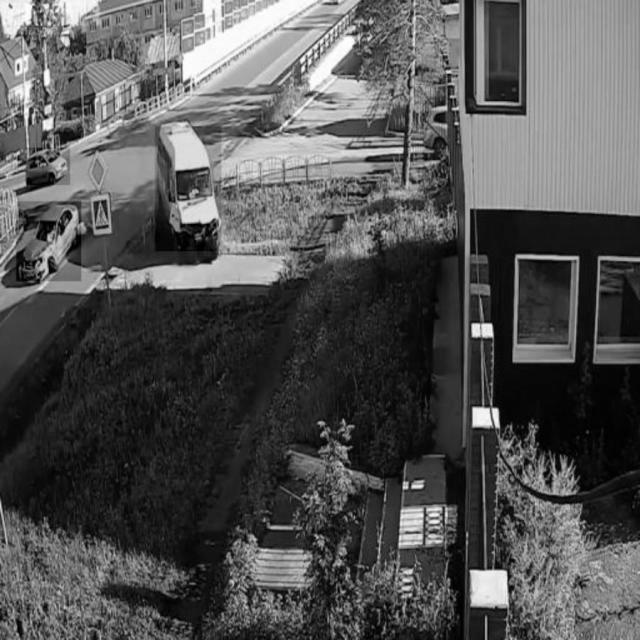vehicle: (156, 126, 222, 250), (17, 202, 81, 282), (27, 148, 71, 185)
